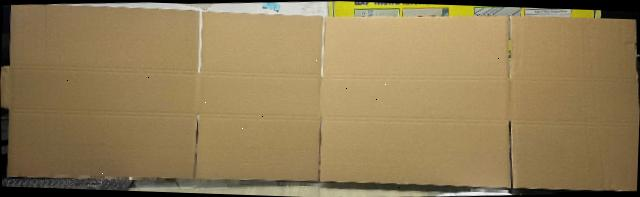box: (0, 5, 639, 191)
